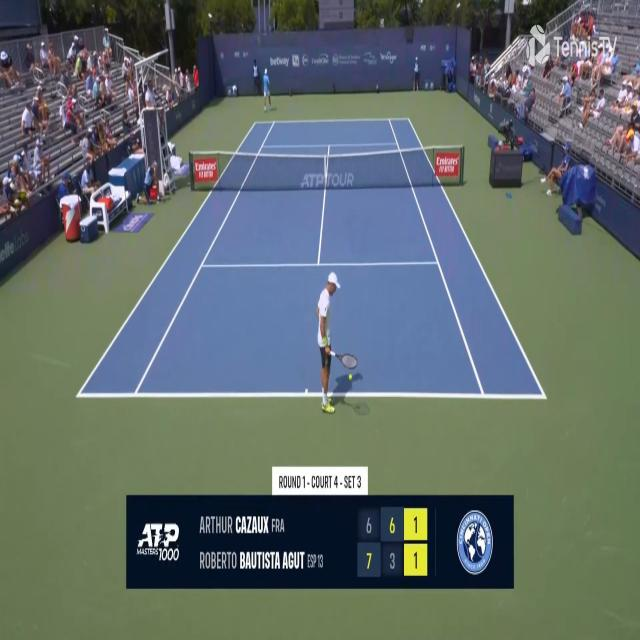tennis-player: (315, 267, 360, 418), (262, 65, 272, 110)
